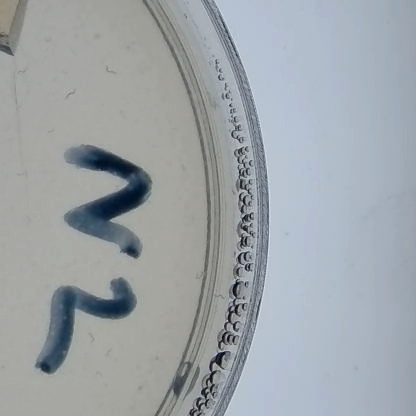worm: (4, 65, 31, 86), (59, 86, 85, 104), (96, 65, 122, 81), (83, 329, 101, 350), (17, 166, 34, 182), (44, 124, 58, 138), (104, 348, 118, 362), (193, 269, 204, 282)
